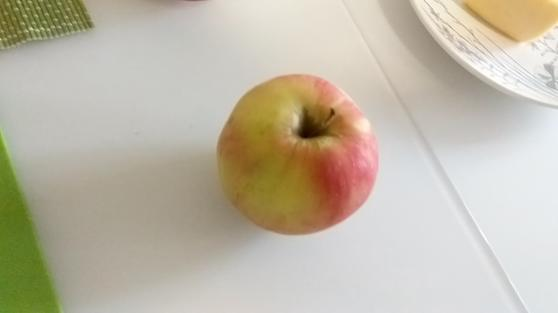apple: (213, 72, 381, 235)
